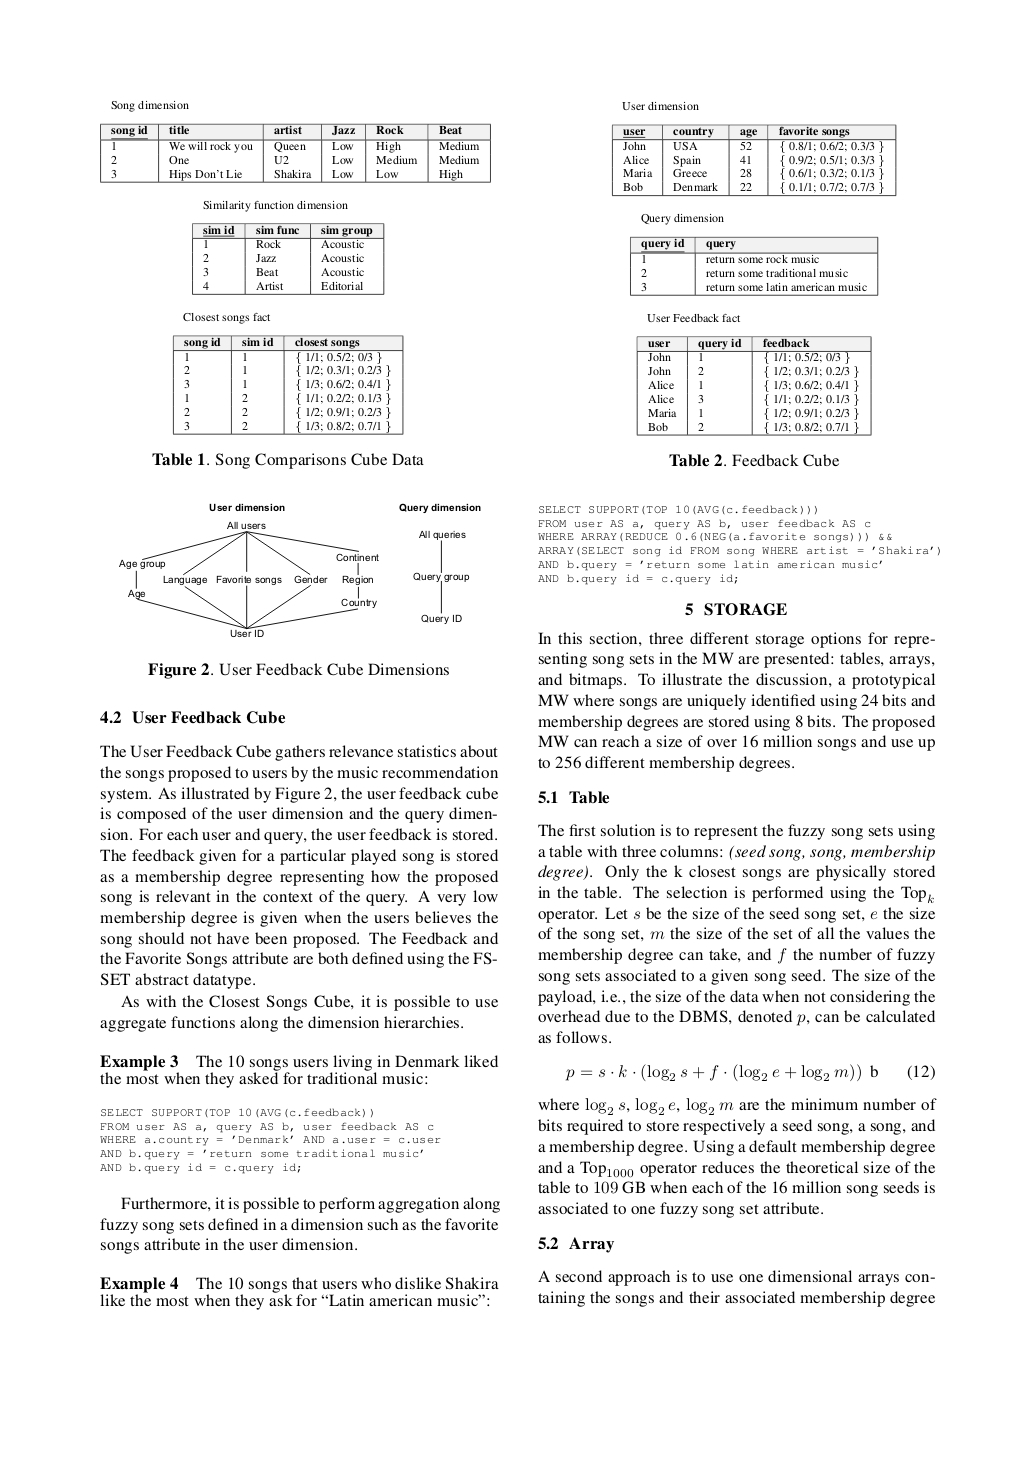Table: (636, 335, 871, 436), (101, 122, 490, 183), (172, 334, 403, 435), (611, 122, 896, 196), (630, 236, 878, 296), (192, 222, 384, 295)
figure: (120, 521, 378, 637), (413, 530, 469, 623)
formula: (565, 1063, 934, 1082)
